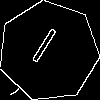I: (24, 26, 60, 73)
